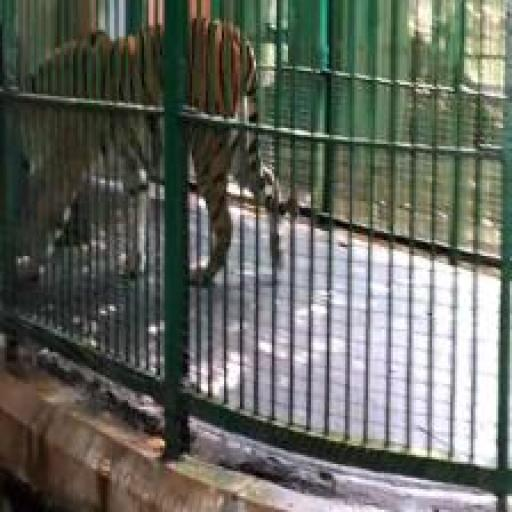Tiger: (2, 21, 297, 345)
